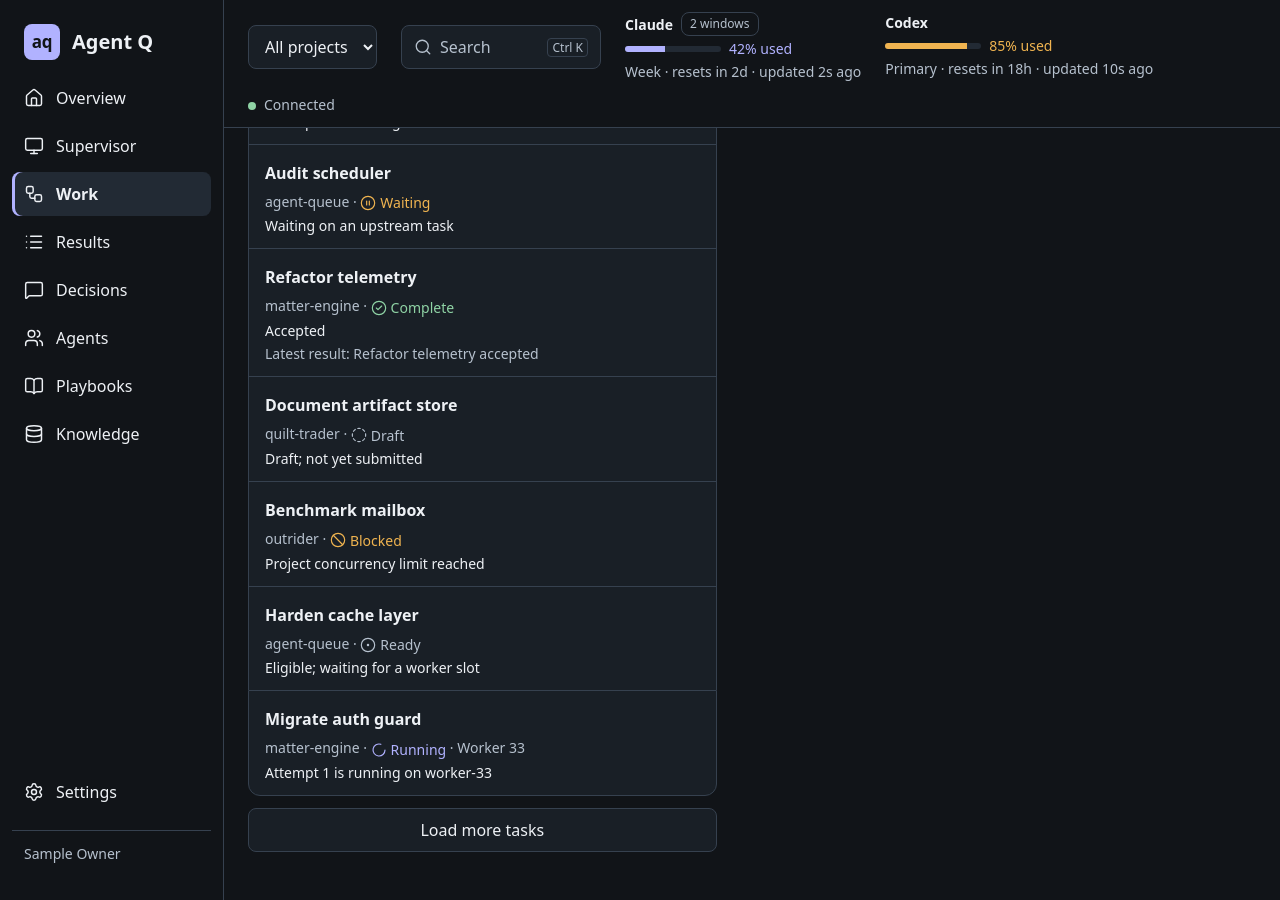
Test: shows a bounded first page with its total and loads more on request
The image size is (1280, 900).
(page scrolled)
Click the button "Load more tasks" at point(482, 830), box [248,808,717,852]
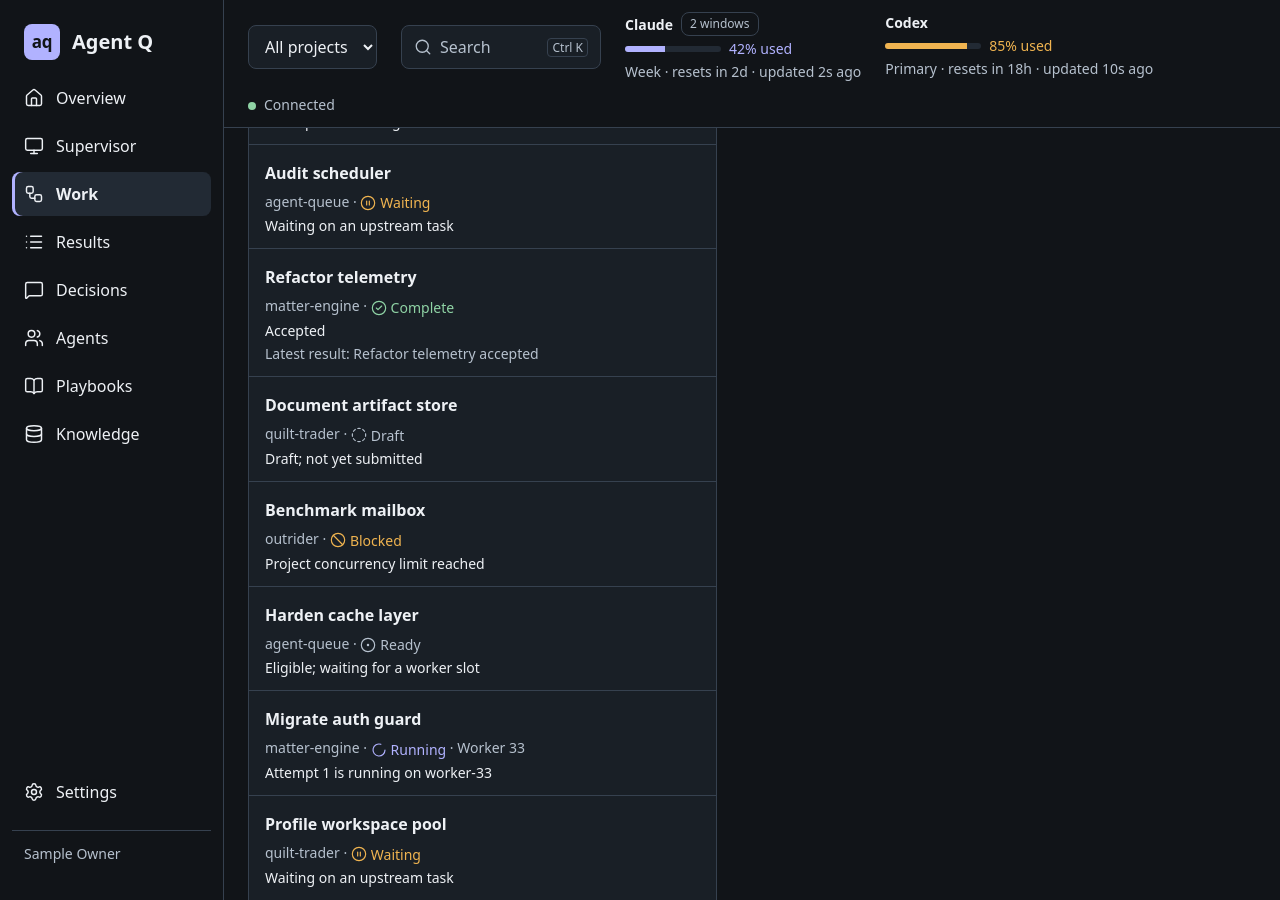
Now the button "Load more tasks" is gone
